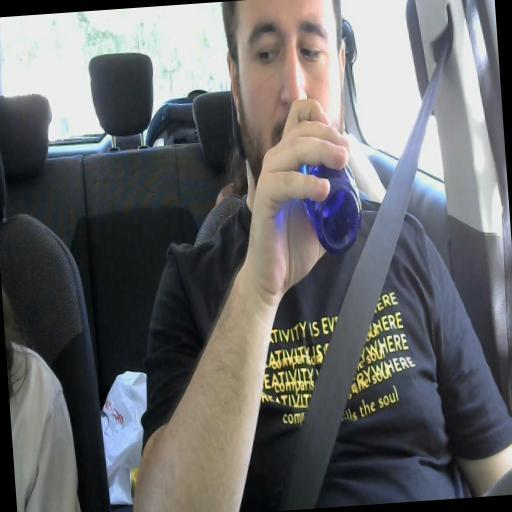Drinking: (225, 0, 361, 255)
